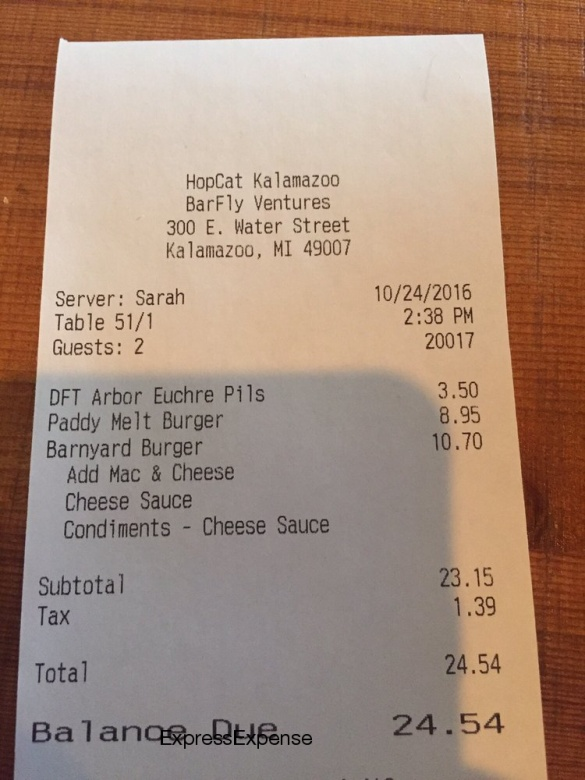Purchase summary: (33, 279, 524, 746)
Receipt: (19, 26, 553, 775)
Shop details: (155, 158, 361, 274)
